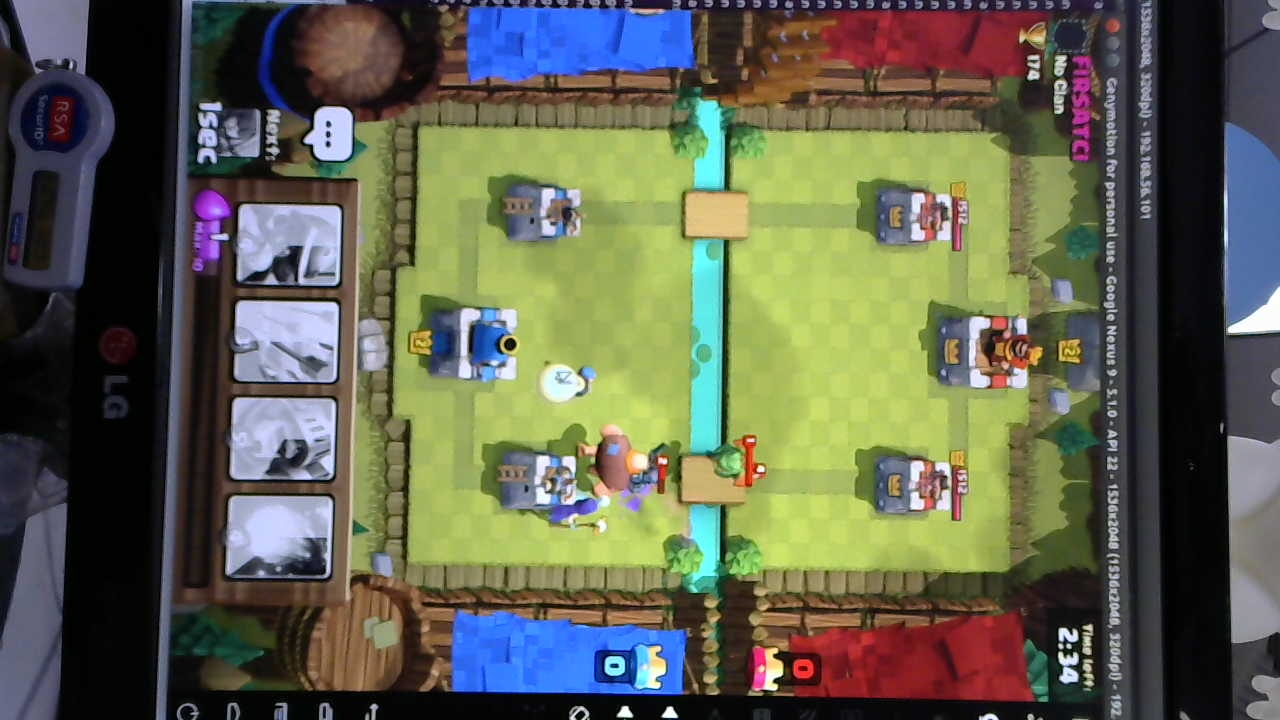arena: (495, 445, 579, 517), (502, 179, 583, 243)
bomb: (573, 360, 601, 402)
dragon: (705, 437, 745, 479)
earena: (868, 454, 954, 515), (876, 184, 952, 250)
eking: (929, 309, 1036, 394)
giant: (584, 419, 643, 496)
king: (427, 301, 521, 386)
minipekka: (633, 445, 665, 494)
witch: (551, 494, 618, 524)
